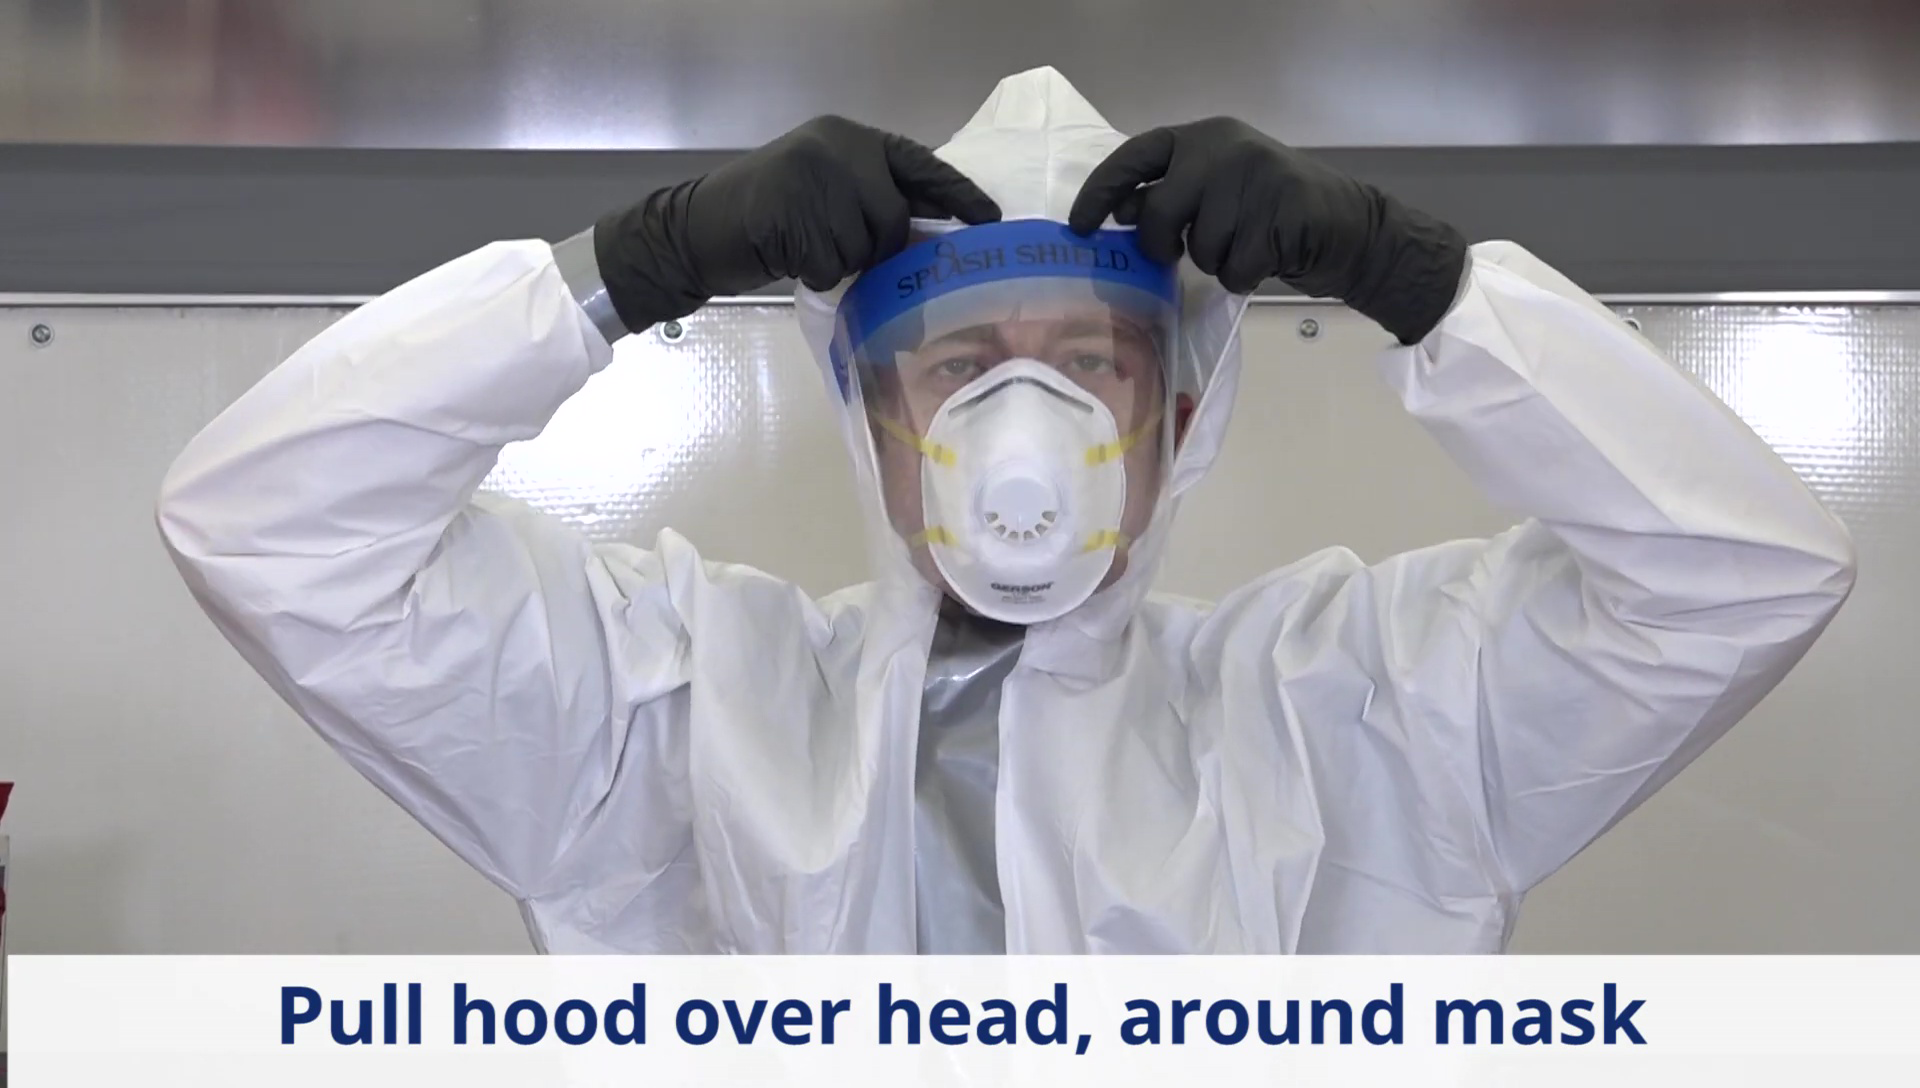Coverall: (156, 62, 1857, 954)
Face_Shield: (821, 219, 1191, 672)
Gloves: (1066, 114, 1466, 346), (591, 112, 1001, 339)
with_mask: (908, 346, 1140, 629)
